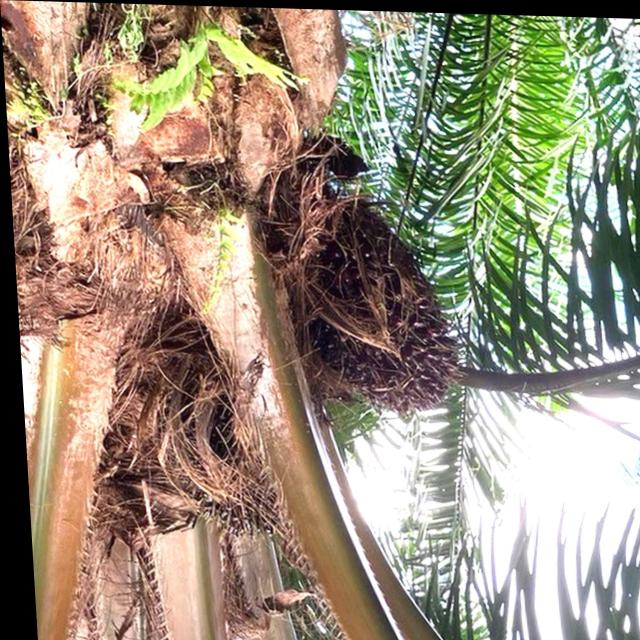ripe: (261, 191, 469, 422)
